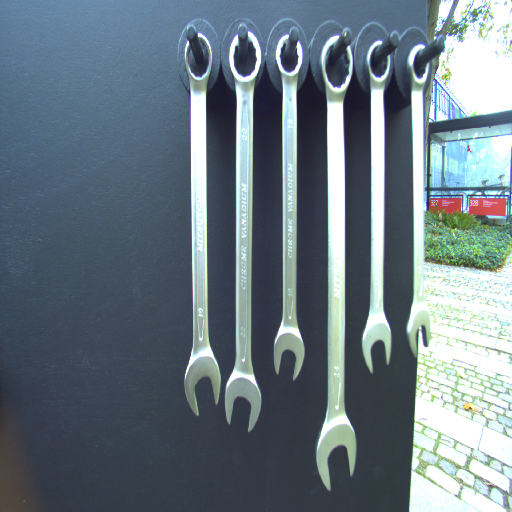bottom: (314, 414, 357, 493), (182, 351, 222, 417), (223, 372, 263, 434), (359, 314, 395, 373), (273, 325, 306, 383), (406, 301, 432, 356)
top: (319, 33, 353, 103), (227, 30, 261, 87), (181, 31, 215, 83), (364, 39, 396, 88), (274, 34, 306, 82), (403, 43, 436, 85)
